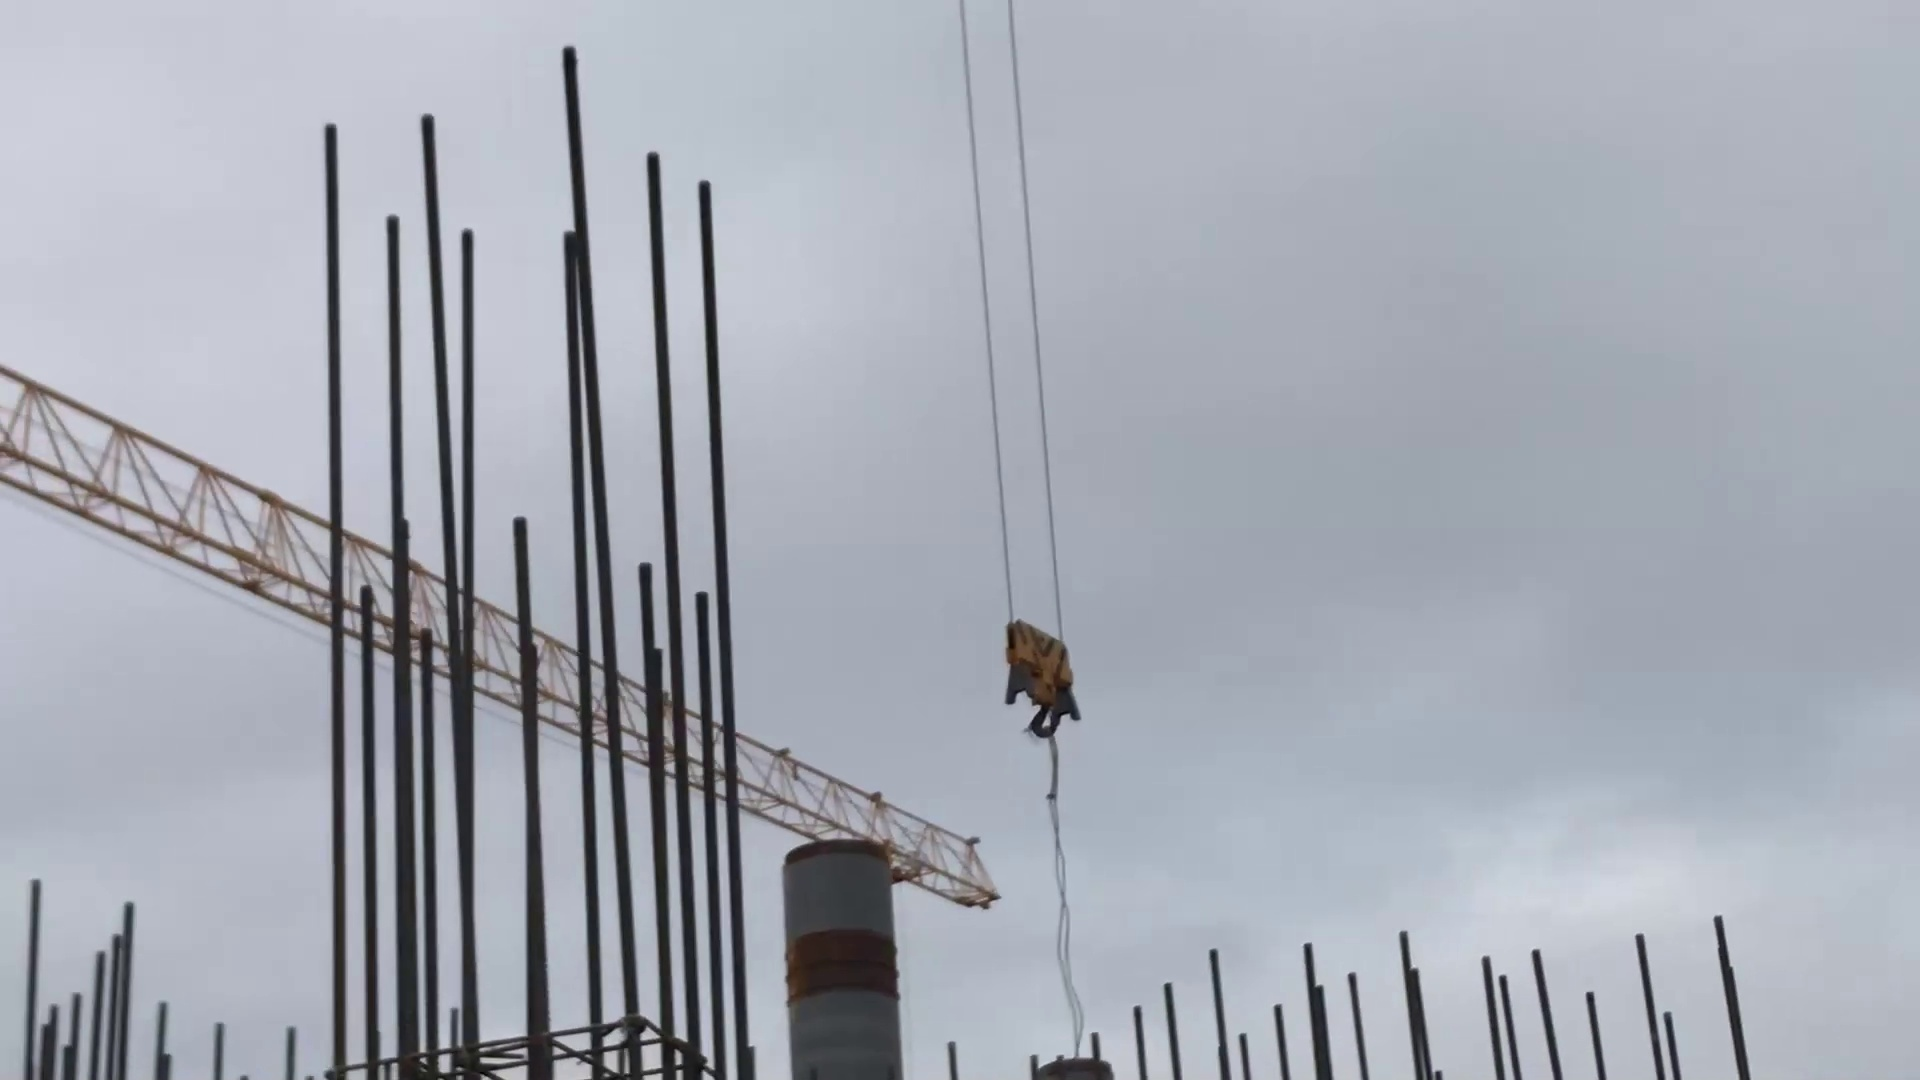hook: (989, 607, 1096, 754)
